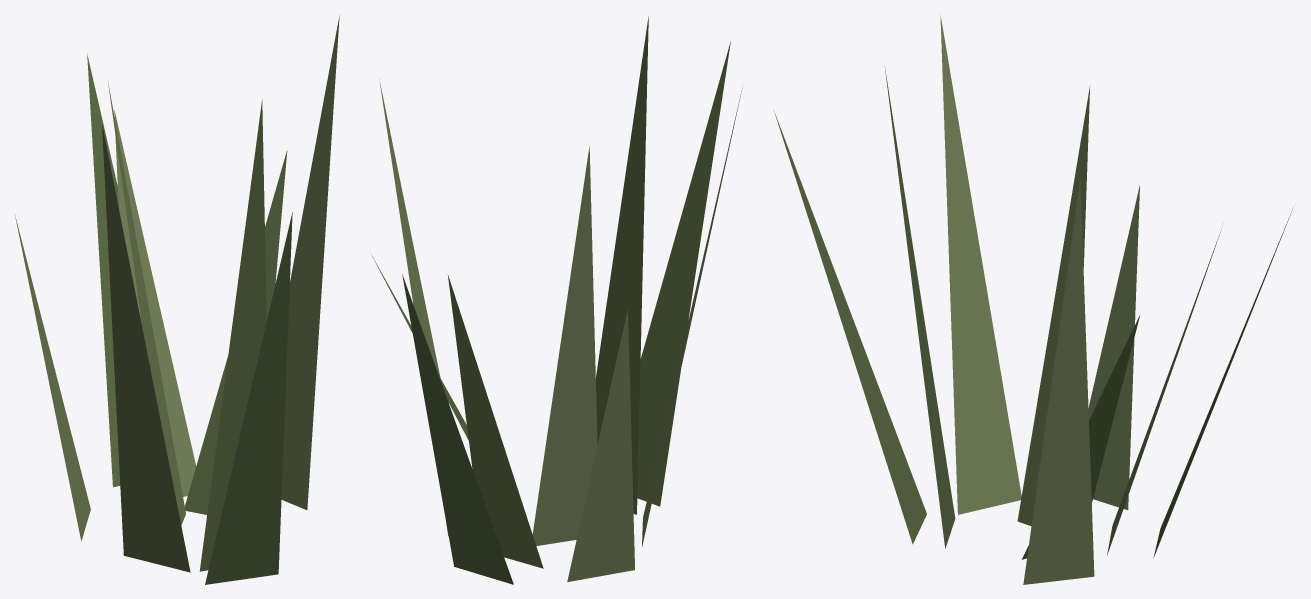
Rendered from grass_tuft.glb.
3 views of the same model, side by side, from view 1: azimuth 30°, elevation 25°; view 2: azimuth 150°, elevation 25°; view 3: azimuth 270°, elevation 25° (orthographic). The views are drawn at different scales.
Parts seen in each view (by area): view 1: grass_tuft; view 2: grass_tuft; view 3: grass_tuft.
Part boxes in pixels (x1=…): grass_tuft: x1=15, y1=15, x2=339, y2=584; grass_tuft: x1=371, y1=16, x2=742, y2=584; grass_tuft: x1=774, y1=14, x2=1292, y2=584.
Bounding box in the file's own units: 0.3237 × 0.491 × 0.4972.
1 material, 1 textured.
